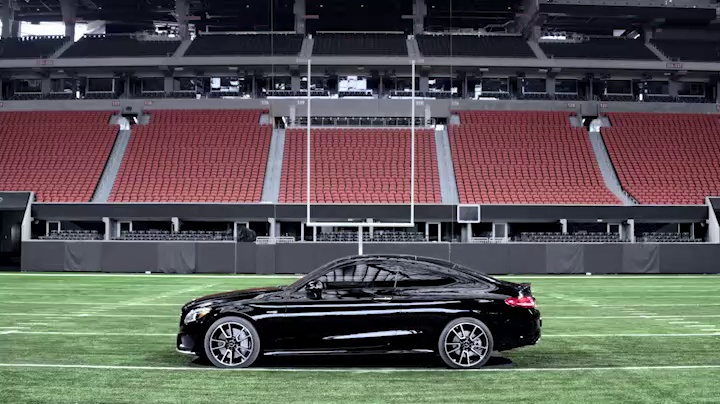amg: (169, 254, 544, 372)
